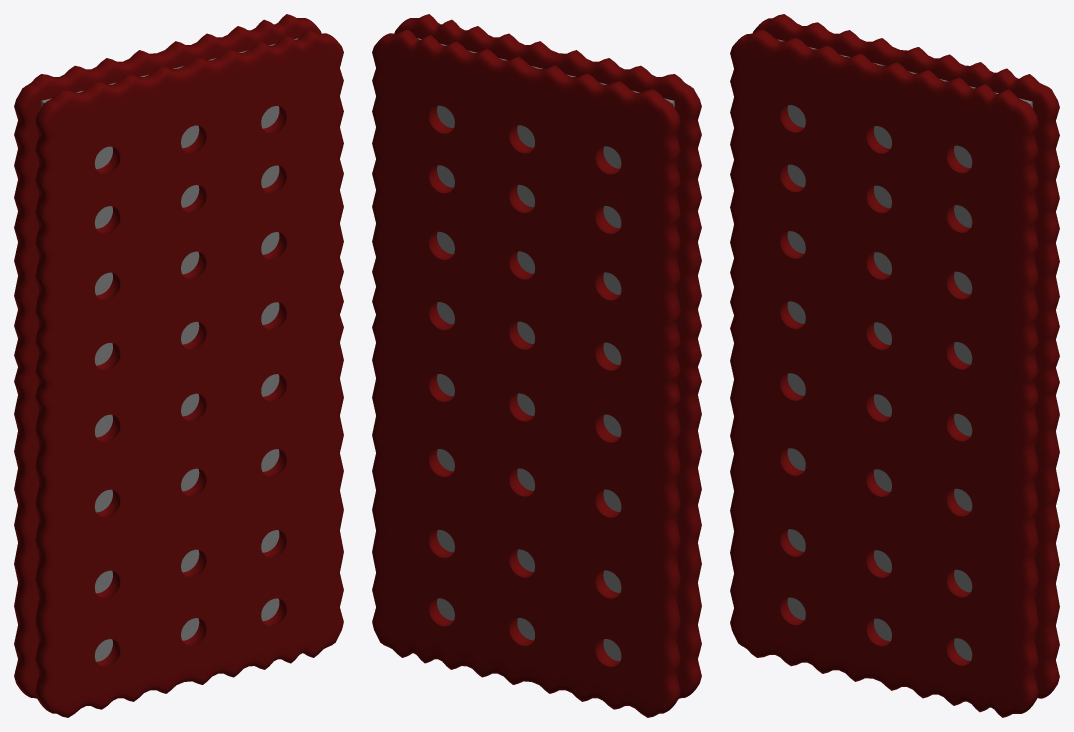
Rendered from wafer.obj.
The picture shows the model from 3 angles, left to right: view 1: azimuth 30°, elevation 25°; view 2: azimuth 150°, elevation 25°; view 3: azimuth 330°, elevation 25°; orthographic projection.
Visible parts, largest first — view 1: polySurface13, polySurface14, pCube4; view 2: polySurface14, polySurface13, pCube4; view 3: polySurface13, polySurface14, pCube4.
Boxes of the visible parts, <box> form: polySurface13: <box>35,29,343,717</box>; polySurface14: <box>14,14,321,698</box>; pCube4: <box>41,38,298,661</box>; polySurface14: <box>372,29,680,717</box>; polySurface13: <box>394,14,701,698</box>; pCube4: <box>417,38,674,661</box>; polySurface13: <box>730,29,1038,717</box>; polySurface14: <box>753,14,1059,698</box>; pCube4: <box>778,39,1032,660</box>.
Size of the model in its own units: 5.01 by 9.85 by 0.8724.
